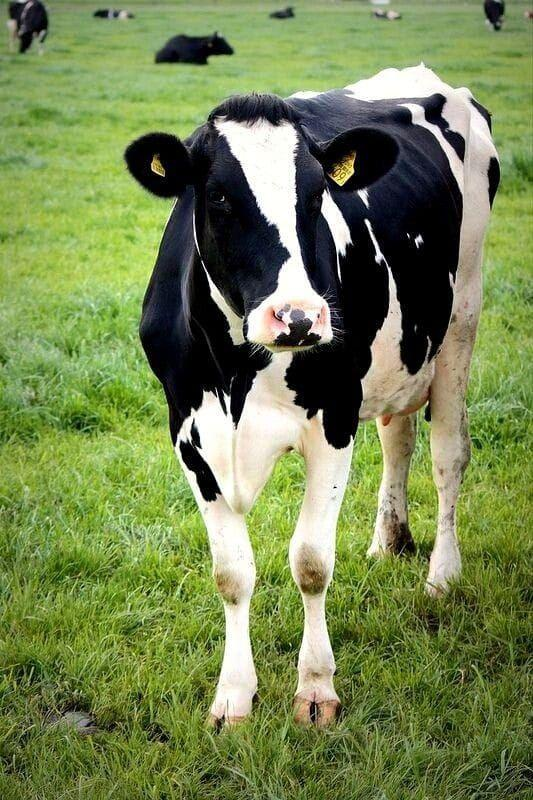cow: (95, 40, 533, 712)
